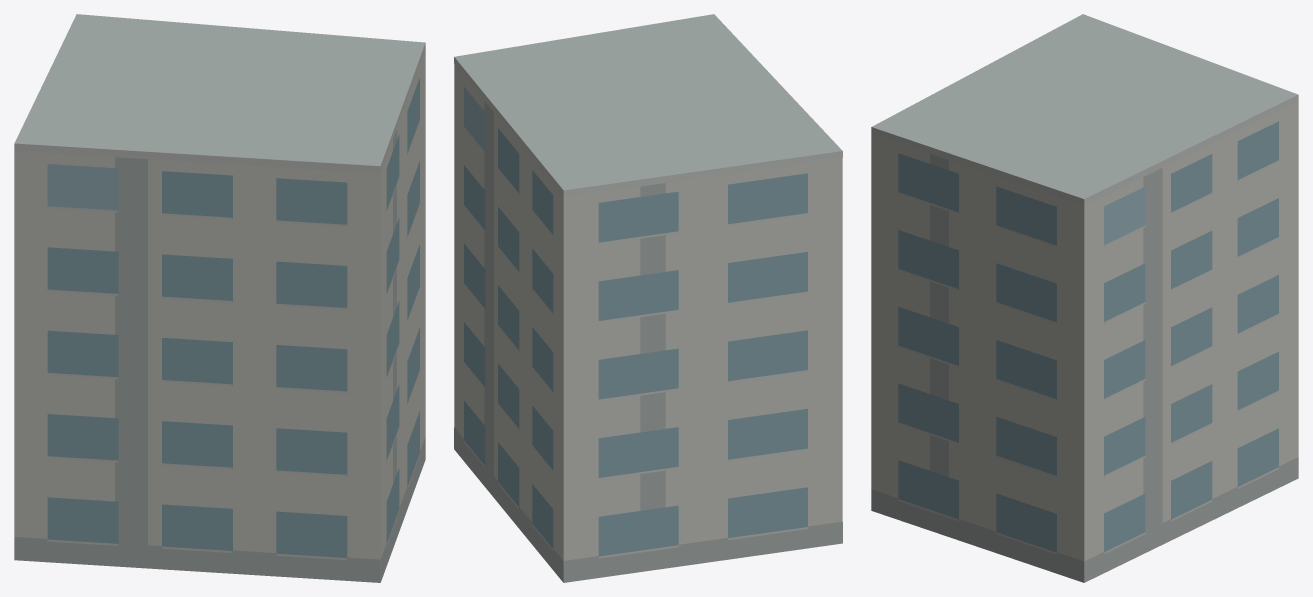
The model's file is survey-upis-32509010.glb.
The picture shows the model from 3 angles, left to right: view 1: azimuth 30°, elevation 25°; view 2: azimuth 150°, elevation 25°; view 3: azimuth 270°, elevation 25°; orthographic projection. The views are drawn at different scales.
Visible parts, largest first — view 1: survey-upis-32509010.tmp; view 2: survey-upis-32509010.tmp; view 3: survey-upis-32509010.tmp.
Part boxes in pixels (box(x1,y1,x2,y2)): survey-upis-32509010.tmp: box(14, 14, 425, 582); survey-upis-32509010.tmp: box(454, 14, 842, 582); survey-upis-32509010.tmp: box(871, 14, 1298, 582).
Bounding box in the file's own units: 14.23 × 13.75 × 13.88.
